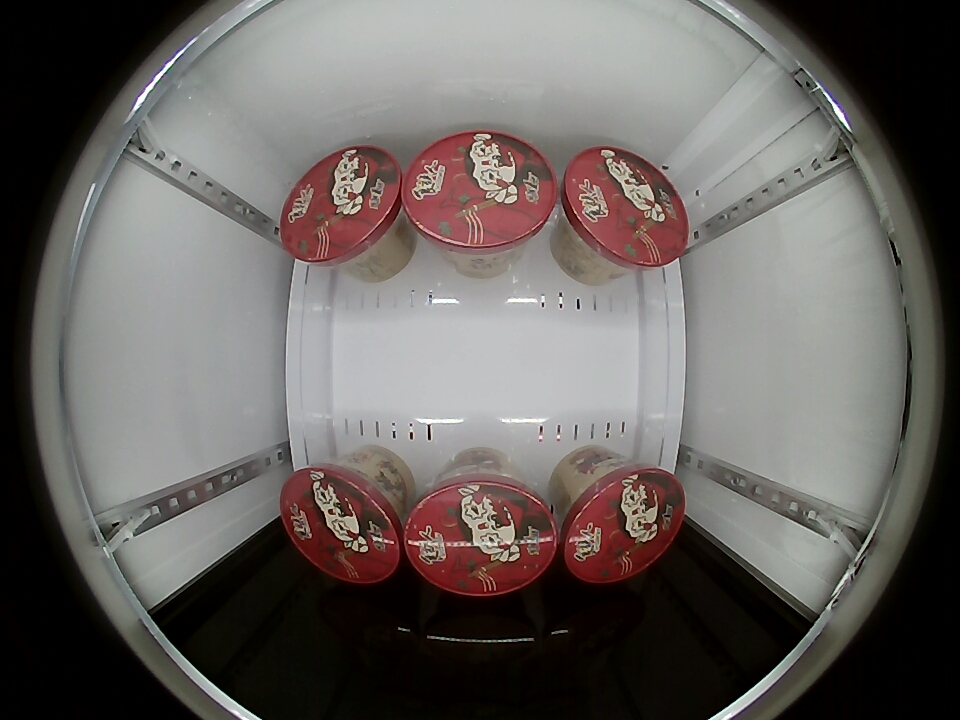suanlafen: (403, 467, 560, 596), (401, 131, 559, 256), (560, 146, 690, 270), (280, 144, 406, 267), (280, 461, 406, 584), (559, 462, 687, 583)
